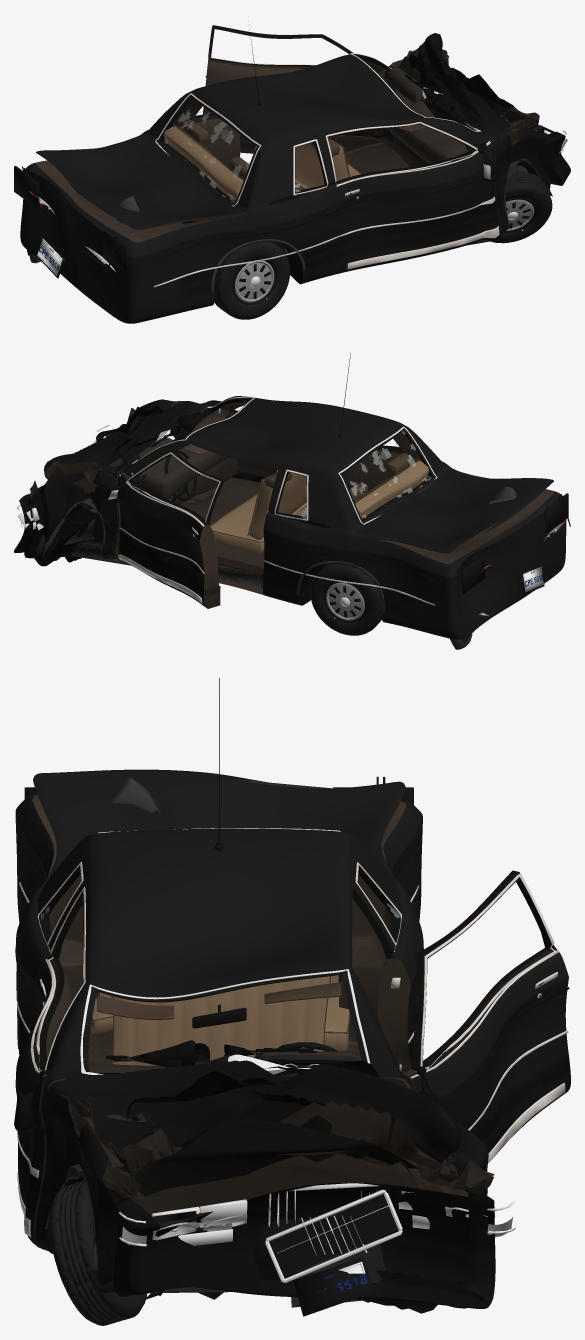
File: coupe84_front_d3_lod1.glb
The picture shows the model from 3 angles, top to bottom: view 1: azimuth 30°, elevation 25°; view 2: azimuth 150°, elevation 25°; view 3: azimuth 270°, elevation 25°; orthographic projection. The views are drawn at different scales.
Parts seen in each view (by area): view 1: Body, Door_FR, Trunk, Interior, Hood, Wheel_RR_mesh, Trim_FR, Door_FL, Wheel_FR_mesh, Trim, Ends, Glass; view 2: Body, Interior, Trunk, Door_FL, Hood, Wheel_RL_mesh, Trim, Ends, Trim_FL, Glass, Underbody, Door_FR (+1 smaller); view 3: Body, Hood, Trunk, Door_FL, Interior, Ends, Door_FR, Wheel_FR_mesh, Trim, Trim_FL, Glass, Trim_FR (+2 smaller).
Part boxes in pixels (bbox=[...]): Body: bbox=[20, 42, 570, 323]; Door_FR: bbox=[324, 121, 501, 272]; Trunk: bbox=[36, 133, 245, 229]; Interior: bbox=[164, 67, 471, 200]; Hood: bbox=[390, 33, 542, 142]; Wheel_RR_mesh: bbox=[214, 242, 289, 319]; Trim_FR: bbox=[325, 122, 499, 269]; Door_FL: bbox=[202, 25, 385, 153]; Wheel_FR_mesh: bbox=[490, 171, 552, 243]; Trim: bbox=[153, 24, 550, 294]; Ends: bbox=[14, 124, 567, 278]; Glass: bbox=[155, 53, 480, 206]; Body: bbox=[14, 396, 566, 639]; Interior: bbox=[134, 413, 428, 552]; Trunk: bbox=[353, 466, 553, 553]; Door_FL: bbox=[116, 451, 224, 608]; Hood: bbox=[44, 399, 210, 493]; Wheel_RL_mesh: bbox=[310, 563, 382, 635]; Trim: bbox=[35, 352, 435, 612]; Ends: bbox=[17, 425, 570, 594]; Trim_FL: bbox=[104, 452, 220, 603]; Glass: bbox=[132, 396, 437, 524]; Underbody: bbox=[62, 499, 489, 615]; Door_FR: bbox=[213, 403, 356, 489]; Body: bbox=[15, 793, 495, 1313]; Hood: bbox=[47, 1060, 463, 1196]; Trunk: bbox=[33, 769, 405, 886]; Door_FL: bbox=[401, 870, 570, 1152]; Interior: bbox=[88, 975, 361, 1072]; Ends: bbox=[24, 776, 515, 1316]; Door_FR: bbox=[16, 885, 86, 1248]; Wheel_FR_mesh: bbox=[49, 1181, 146, 1325]; Trim: bbox=[15, 678, 423, 1272]; Trim_FL: bbox=[399, 873, 569, 1163]; Glass: bbox=[39, 828, 401, 1074]; Trim_FR: bbox=[14, 886, 85, 1237].
Bounding box in the file's own units: 4.38 × 2.19 × 2.46.
33 materials, 5 textured.
